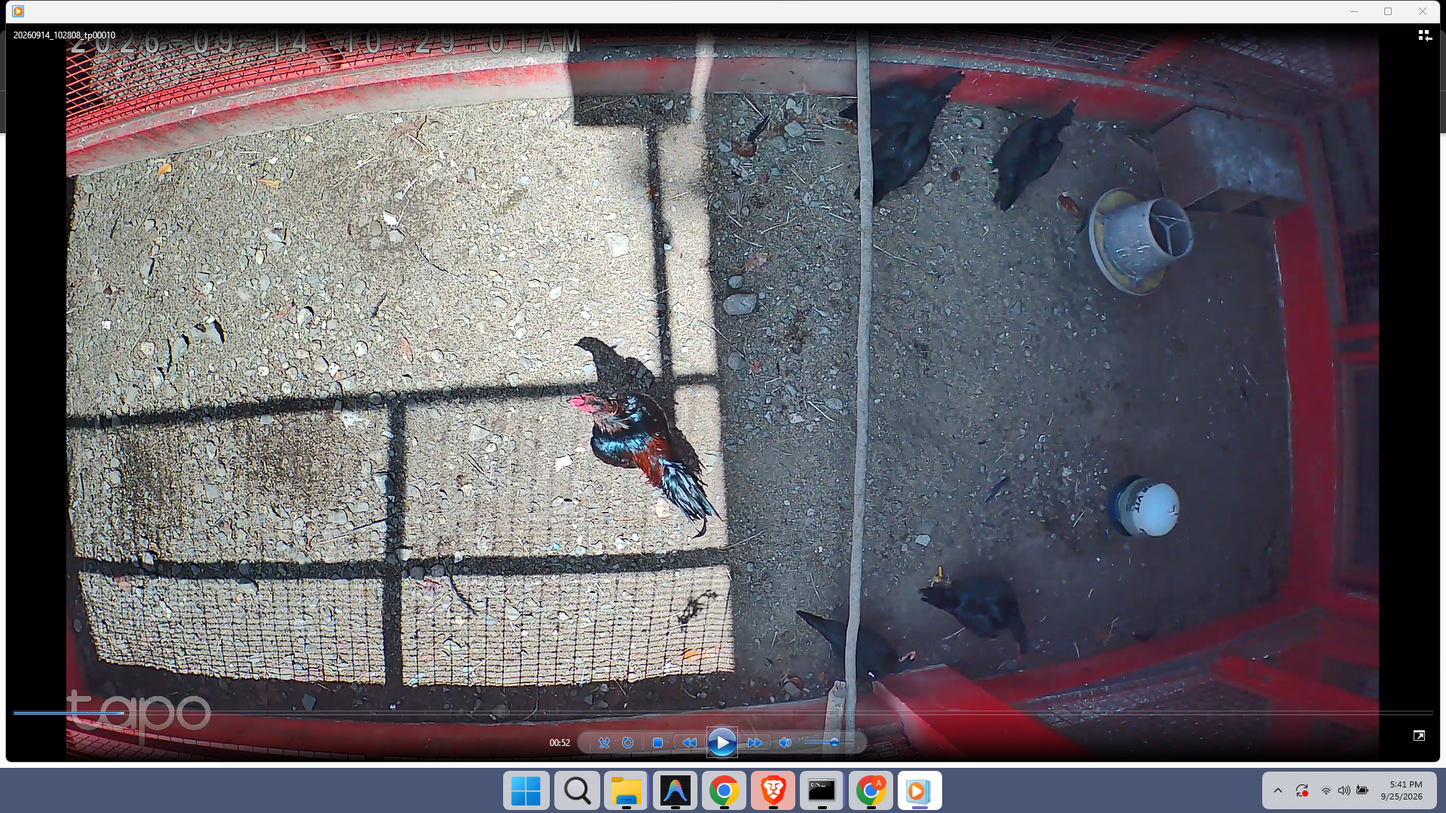Chicken: (913, 559, 1031, 665), (987, 93, 1084, 213), (855, 91, 953, 205), (790, 604, 917, 686), (835, 67, 968, 127)
Drinker: (1106, 470, 1183, 540)
Feeder: (1082, 180, 1193, 298)
Leg_Band_Yellow: (933, 559, 944, 585)
Rooster: (563, 390, 741, 544)
